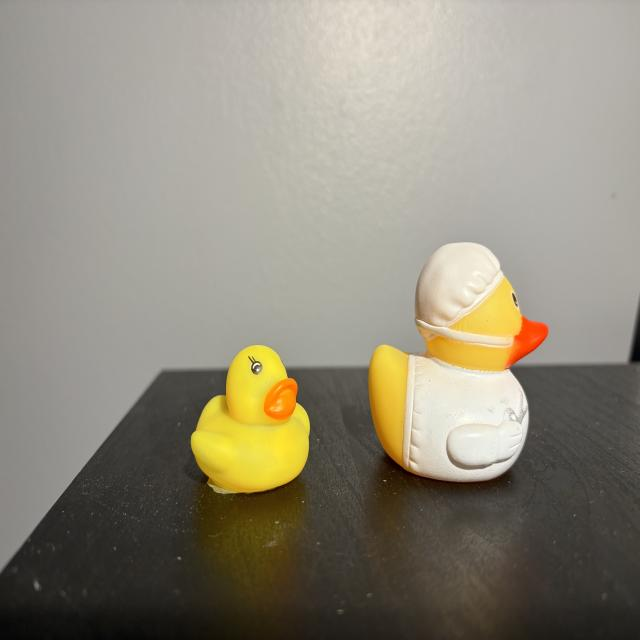duck_regular: (192, 345, 310, 494)
duck_specialty: (370, 244, 550, 482)
